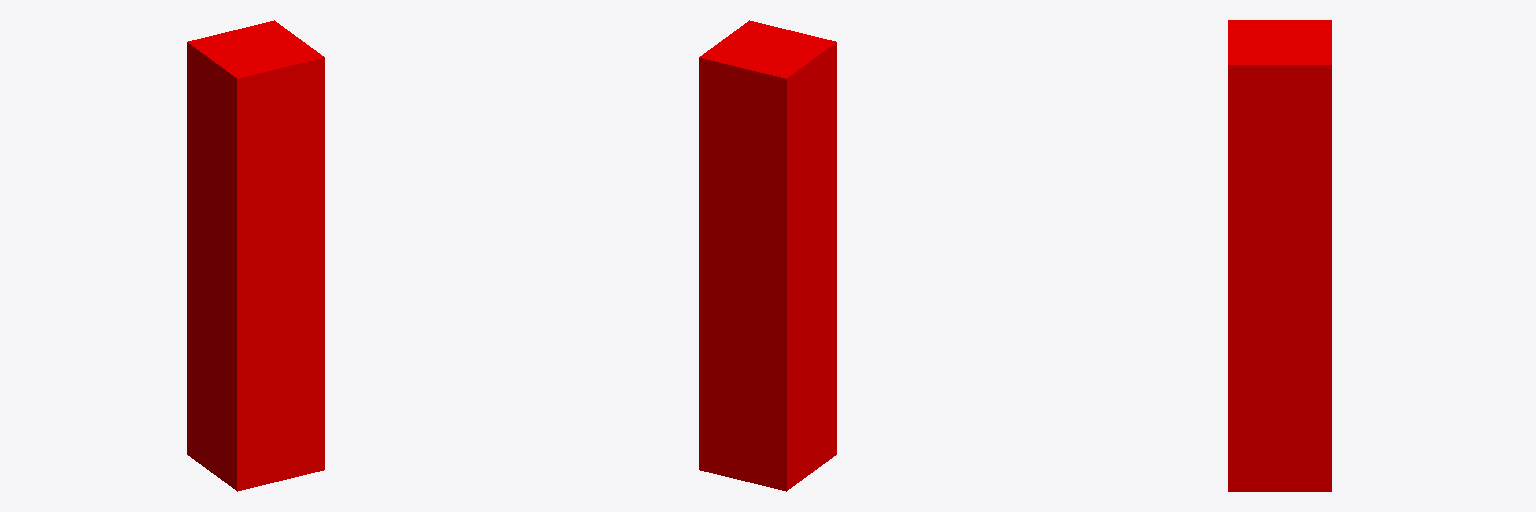
The robot description file, URDF, robot "stick":
<?xml version="1.0" ?>
<robot name="stick">
  <link name="baseLink">
    <contact>
      <lateral_friction value="1.0"/>
      <rolling_friction value="1.0"/>
      <spinning_friction value="1.0"/>
      <!--contact_cfm value="0.0"/-->
      <!--contact_erp value="1.0"/-->
    </contact>
    <inertial>
      <origin rpy="0 0 0" xyz="0 0 0"/>
       <mass value="1.0"/>
       <inertia ixx="1" ixy="0" ixz="0" iyy="1" iyz="0" izz="1"/>
    </inertial>
    <visual>
      <origin rpy="0 0 0" xyz="0 0 0"/>
      <geometry>
				<box size="0.02 0.02 0.09"/>
      </geometry>
       <material name="red">
        <color rgba="1 0 0 1"/>
      </material>
    </visual>
    <collision>
      <origin rpy="0 0 0" xyz="0 0 0"/>
      <geometry>
	 	  <box size="0.02 0.02 0.09"/>
      </geometry>
    </collision>
  </link>
</robot>

--- What the picture shows (computed from the rendered views, not written in the file) ---
The picture shows the robot from 3 angles, left to right: view 1: azimuth 30°, elevation 25°; view 2: azimuth 150°, elevation 25°; view 3: azimuth 270°, elevation 25°; orthographic projection.
Model stick with 1 links and 0 joints (none), rooted at baseLink, posed all joints at 0.
Links seen in each view (by area): view 1: baseLink; view 2: baseLink; view 3: baseLink.
Link boxes in pixels (bbox=[...]): baseLink: bbox=[187, 20, 324, 491]; baseLink: bbox=[699, 20, 836, 491]; baseLink: bbox=[1228, 20, 1331, 491].
Size in the robot's own frame: 0.02 by 0.02 by 0.09 metres.
Geometry: primitives only (box / cylinder / sphere), no mesh files.
